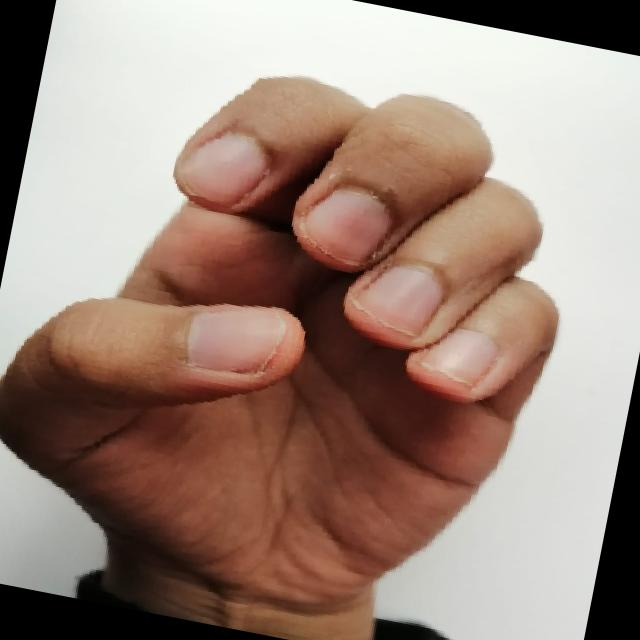Nail: (304, 189, 393, 267), (187, 307, 287, 373), (352, 265, 443, 335), (183, 133, 269, 206), (413, 329, 503, 392)
